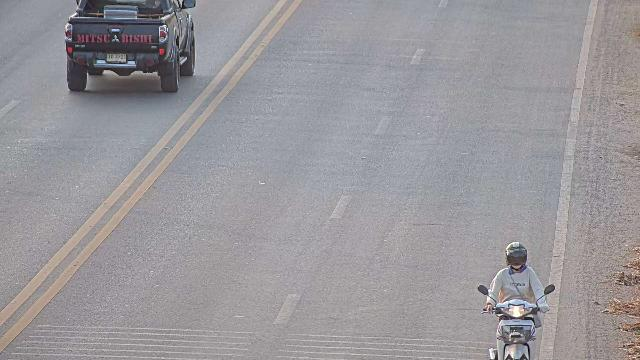motorcycle: (472, 240, 549, 359)
pickup-truck: (64, 0, 196, 93)
